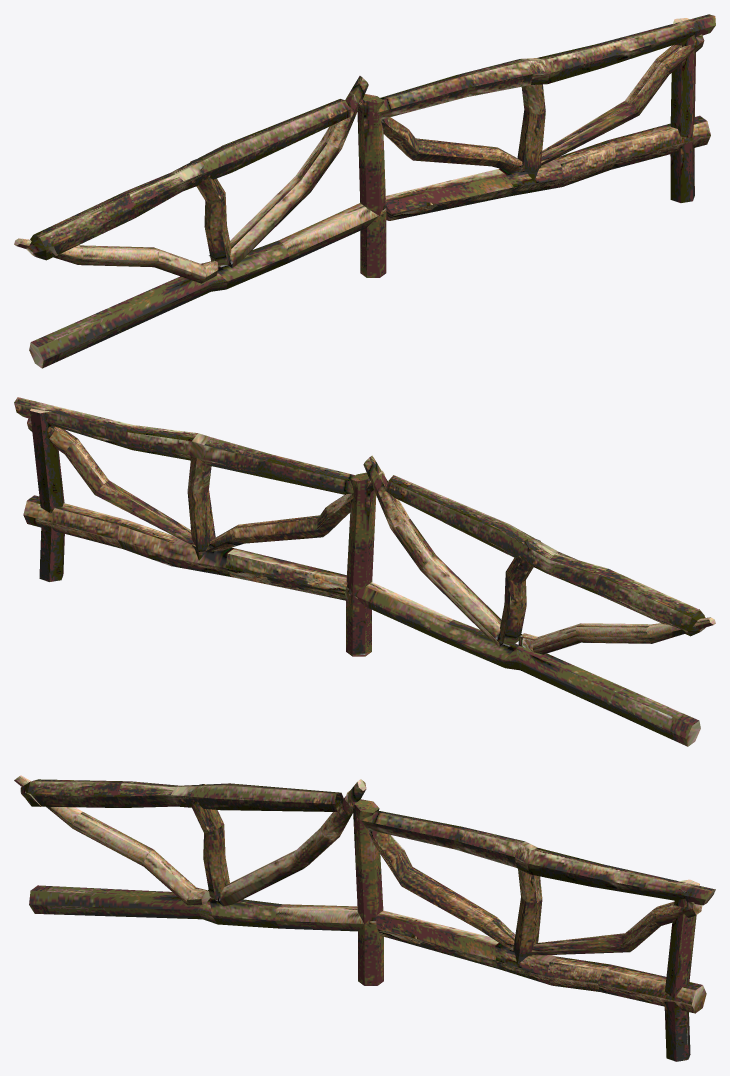
Rendered from Fence_var.fbx.
The picture shows the model from 3 angles, top to bottom: view 1: azimuth 30°, elevation 25°; view 2: azimuth 150°, elevation 25°; view 3: azimuth 330°, elevation 25°; orthographic projection.
Parts seen in each view (by area): view 1: Fence; view 2: Fence; view 3: Fence.
Boxes of the visible parts, x1,y1,x2,y2 form: Fence: (14, 14, 715, 368); Fence: (14, 397, 715, 746); Fence: (14, 775, 715, 1061).
Bounding box in the file's own units: 534 × 153 × 27.74.
Materials: 1 (1 with a texture image).
